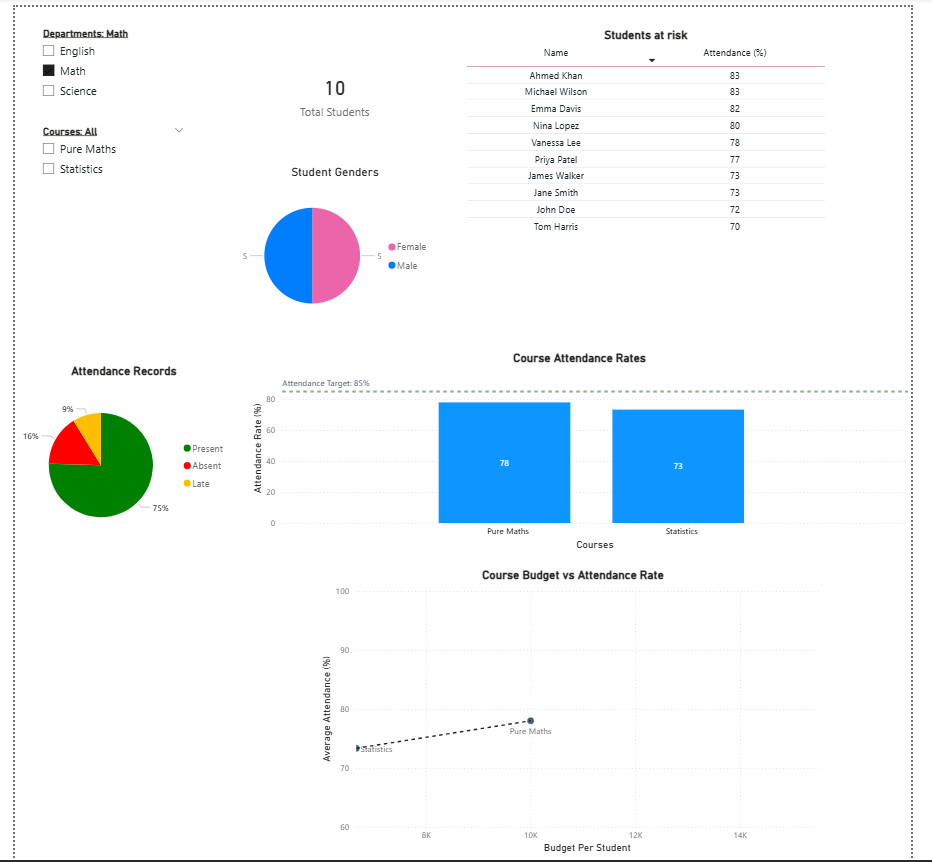

Layout of this report page (visuals, bound fields, positions):
{"tool":"powerbi","page":{"name":"Page 1","canvas":[1280,1440],"ordinal":0},"visuals":[{"type":"clusteredColumnChart","title":"Course Attendance Rates","fields":{"Category":["vw_courseOverview.courseName"],"Y":["Sum(vw_courseOverview.avgAttendance)"]},"box":[332.5,491.2,947.5,288.8],"z":1000},{"type":"slicer","fields":{"Values":["vw_courseOverview.departmentName"]},"box":[27.1,24.3,227.1,131.4],"z":2000},{"type":"pieChart","title":"Attendance Records","fields":{"Category":["attendances.AttendanceStatusValue"],"Y":["CountNonNull(attendances.attendanceId)"]},"box":[0,510,311.2,270],"z":3000},{"type":"slicer","title":"Courses","fields":{"Values":["courses.courseName"]},"box":[27.5,163.8,226.2,215],"z":4000},{"type":"card","fields":{"Values":["CourseStudent.StudentCount"]},"box":[335,23.8,245,201.2],"z":5000},{"type":"pieChart","title":"Student Genders","fields":{"Category":["students.StudentGenderValue"],"Y":["CourseStudent.StudentCount"]},"box":[311.2,225,291.2,240],"z":6000},{"type":"tableEx","title":"Students at risk","fields":{"Values":["vw_AtRiskStudents.StudentFullName","vw_AtRiskStudents.attendanceAvg"]},"box":[640,23.8,522.5,450],"z":7000},{"type":"scatterChart","title":"Course Budget vs Attendance Rate","fields":{"X":["Sum(vw_courseOverview.budgetPerStudent)"],"Y":["Sum(vw_courseOverview.avgAttendance)"],"Category":["vw_courseOverview.courseName"]},"box":[431.4,801.4,731.4,412.9],"z":8000}]}

Visuals, with their boxes on the page's 1280x1440 design canvas (x1, y1, x2, y2). These are canvas units, not pixel positions in the 932x862 screenshot, which may show the page scaled, cropped or inside an application window:
"Course Attendance Rates" clusteredColumnChart: box(332, 491, 1280, 780)
slicer - vw_courseOverview.departmentName: box(27, 24, 254, 156)
"Attendance Records" pieChart: box(0, 510, 311, 780)
"Courses" slicer: box(28, 164, 254, 379)
card - CourseStudent.StudentCount: box(335, 24, 580, 225)
"Student Genders" pieChart: box(311, 225, 602, 465)
"Students at risk" tableEx: box(640, 24, 1162, 474)
"Course Budget vs Attendance Rate" scatterChart: box(431, 801, 1163, 1214)
